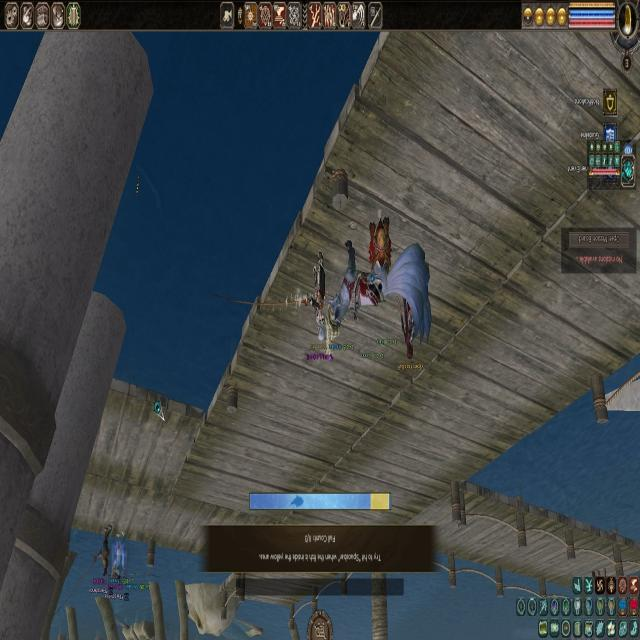box: (371, 493, 389, 509)
fishes: (290, 493, 306, 509)
